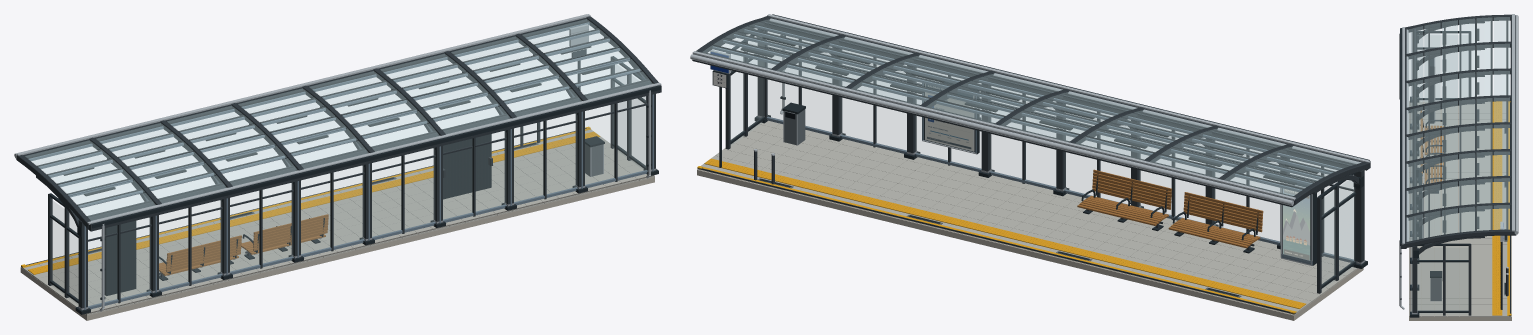
The model's file is RAIL06_lod2.glb.
3 renders of one model, left to right at view 1: azimuth 30°, elevation 25°; view 2: azimuth 150°, elevation 25°; view 3: azimuth 270°, elevation 25°, orthographic. The views are drawn at different scales.
Parts seen in each view (by area): view 1: Roof_PhysicalLaminatedGlass__GlazedRoofSmoky, Facade_LaminatedGlazing__GlazedWallClear, Structure_IndividualStonePavers__LightPaving, Roof_CrossPurlin__TitaniumTrim, Roof_GlazingSeal__BlackEPDMGasket, Roof_IntegratedSweepingArch__RAL7016_PowderCoatedSteel, Structure_MainRearColumns__RAL7016_PowderCoatedSteel, Roof_FullLengthDeepFascia__RAL7016_PowderCoatedSteel, Roof_BrushedTopLip__PolishedAluminium, Structure_ConcreteFoundation__HonedConcrete, Facade_EndGlassReturn__GlazedWallClear, Details_RearRainGutter__MidnightAnodized (+23 smaller); view 2: Structure_IndividualStonePavers__LightPaving, Roof_PhysicalLaminatedGlass__GlazedRoofSmoky, Facade_LaminatedGlazing__GlazedWallClear, Roof_CrossPurlin__TitaniumTrim, Roof_GlazingSeal__BlackEPDMGasket, Roof_RoundedLeadingEdgeNose__PolishedAluminium, Roof_IntegratedSweepingArch__RAL7016_PowderCoatedSteel, Details_TactileBase__RubberTactileYellow, Roof_BrushedTopLip__PolishedAluminium, Structure_ConcreteFoundation__HonedConcrete, Facade_EndGlassReturn__GlazedWallClear, Structure_MainRearColumns__RAL7016_PowderCoatedSteel (+22 smaller); view 3: Roof_PhysicalLaminatedGlass__GlazedRoofSmoky, Structure_IndividualStonePavers__LightPaving, Roof_IntegratedSweepingArch__RAL7016_PowderCoatedSteel, Roof_GlazingSeal__BlackEPDMGasket, Facade_EndGlassReturn__GlazedWallClear, Details_TactileBase__RubberTactileYellow, Structure_CastCurvedHaunch__RAL7016_PowderCoatedSteel, Roof_RoundedLeadingEdgeNose__PolishedAluminium, Roof_BrushedTopLip__PolishedAluminium, Roof_FullLengthDeepFascia__RAL7016_PowderCoatedSteel, Structure_ConcreteFoundation__HonedConcrete, Facade_EndSteelUprights__RAL7016_PowderCoatedSteel (+22 smaller).
Part boxes in pixels (x1,y1,x2,y2): Roof_PhysicalLaminatedGlass__GlazedRoofSmoky: (25, 19, 652, 220); Facade_LaminatedGlazing__GlazedWallClear: (88, 96, 646, 306); Structure_IndividualStonePavers__LightPaving: (21, 129, 654, 315); Roof_CrossPurlin__TitaniumTrim: (28, 22, 640, 208); Roof_GlazingSeal__BlackEPDMGasket: (27, 21, 649, 217); Roof_IntegratedSweepingArch__RAL7016_PowderCoatedSteel: (17, 16, 658, 228); Structure_MainRearColumns__RAL7016_PowderCoatedSteel: (78, 94, 655, 308); Roof_FullLengthDeepFascia__RAL7016_PowderCoatedSteel: (16, 18, 661, 231); Roof_BrushedTopLip__PolishedAluminium: (16, 14, 661, 224); Structure_ConcreteFoundation__HonedConcrete: (20, 177, 654, 320); Facade_EndGlassReturn__GlazedWallClear: (51, 97, 645, 304); Details_RearRainGutter__MidnightAnodized: (91, 85, 660, 228); Structure_IndividualStonePavers__LightPaving: (698, 120, 1357, 314); Roof_PhysicalLaminatedGlass__GlazedRoofSmoky: (702, 19, 1359, 196); Facade_LaminatedGlazing__GlazedWallClear: (767, 80, 1353, 259); Roof_CrossPurlin__TitaniumTrim: (712, 25, 1342, 192); Roof_GlazingSeal__BlackEPDMGasket: (702, 20, 1355, 196); Roof_RoundedLeadingEdgeNose__PolishedAluminium: (690, 18, 1361, 205); Roof_IntegratedSweepingArch__RAL7016_PowderCoatedSteel: (696, 16, 1369, 205); Details_TactileBase__RubberTactileYellow: (704, 158, 1305, 308); Roof_BrushedTopLip__PolishedAluminium: (692, 14, 1370, 200); Structure_ConcreteFoundation__HonedConcrete: (697, 169, 1363, 320); Facade_EndGlassReturn__GlazedWallClear: (731, 71, 1354, 289); Structure_MainRearColumns__RAL7016_PowderCoatedSteel: (757, 30, 1364, 262); Roof_PhysicalLaminatedGlass__GlazedRoofSmoky: (1407, 17, 1509, 241); Structure_IndividualStonePavers__LightPaving: (1409, 101, 1510, 316); Roof_IntegratedSweepingArch__RAL7016_PowderCoatedSteel: (1403, 14, 1513, 248); Roof_GlazingSeal__BlackEPDMGasket: (1412, 17, 1508, 240); Facade_EndGlassReturn__GlazedWallClear: (1417, 35, 1468, 314); Details_TactileBase__RubberTactileYellow: (1492, 101, 1502, 315); Structure_CastCurvedHaunch__RAL7016_PowderCoatedSteel: (1417, 21, 1484, 258); Roof_RoundedLeadingEdgeNose__PolishedAluminium: (1406, 15, 1518, 241); Roof_BrushedTopLip__PolishedAluminium: (1402, 14, 1514, 244); Roof_FullLengthDeepFascia__RAL7016_PowderCoatedSteel: (1400, 15, 1516, 248); Structure_ConcreteFoundation__HonedConcrete: (1409, 102, 1511, 320); Facade_EndSteelUprights__RAL7016_PowderCoatedSteel: (1416, 32, 1471, 315).
Size of the model in its own units: 18.3 by 3.57 by 4.21.
23 materials, 23 textured.
